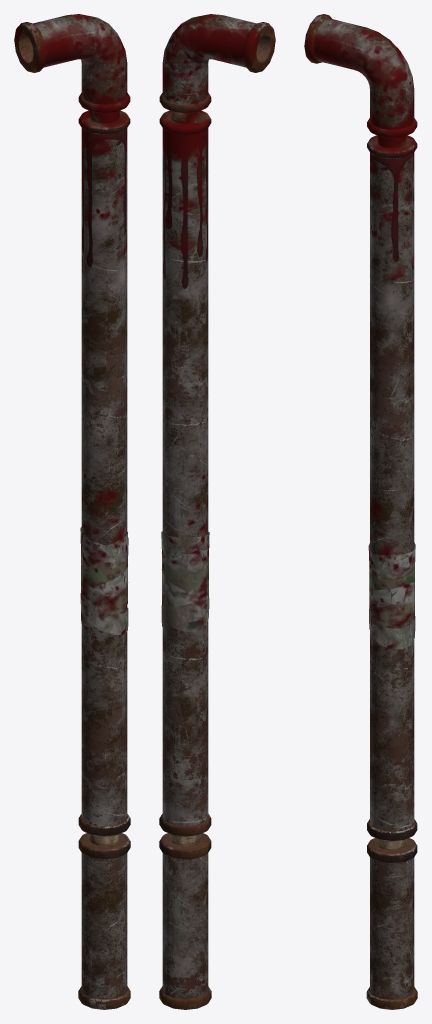
File: weapon_pipe.glb
3 views of the same model, side by side, from view 1: azimuth 30°, elevation 25°; view 2: azimuth 150°, elevation 25°; view 3: azimuth 330°, elevation 25° (orthographic). The views are drawn at different scales.
Visible parts, largest first — view 1: defaultMaterial; view 2: defaultMaterial; view 3: defaultMaterial.
Boxes of the visible parts, x1=… form: defaultMaterial: x1=14, y1=14, x2=130, y2=1009; defaultMaterial: x1=159, y1=14, x2=275, y2=1009; defaultMaterial: x1=304, y1=14, x2=417, y2=1009.
Bounding box in the file's own units: 0.0661 × 0.62 × 0.0297.
1 material, 1 textured.
